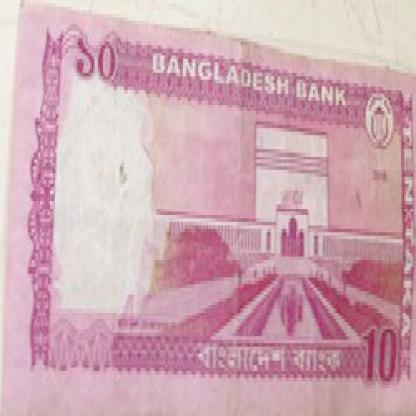Ten Taka: (76, 21, 136, 104), (359, 319, 403, 392)
